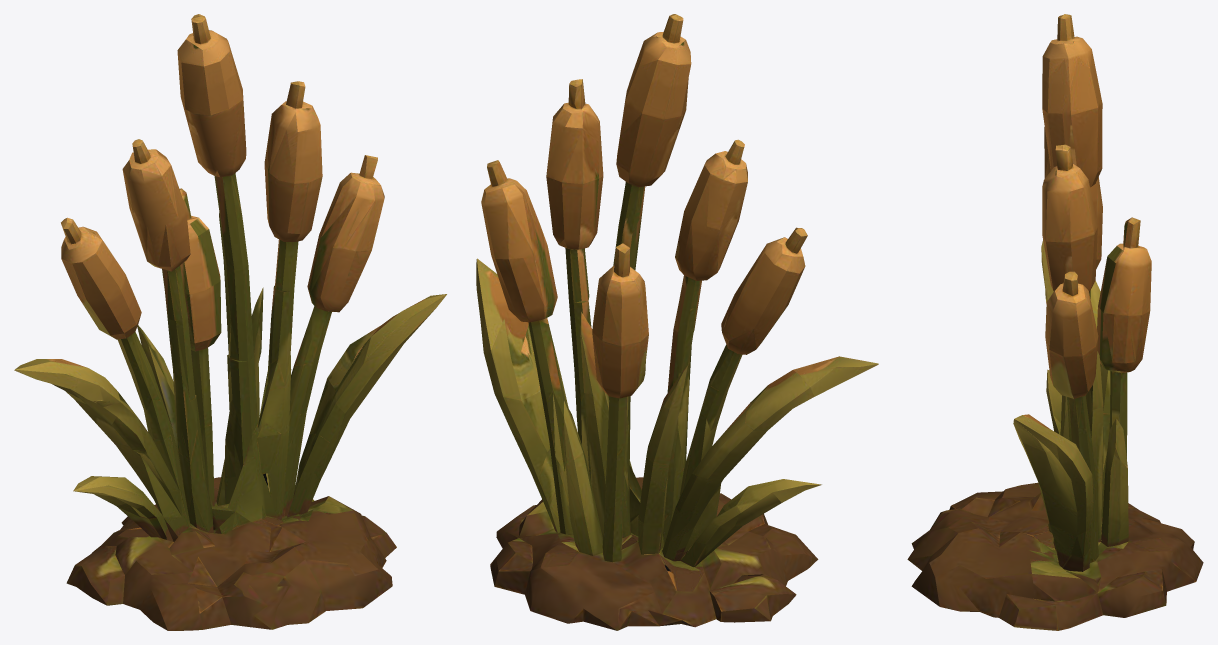
The model's file is reed-clump.glb.
The picture shows the model from 3 angles, left to right: view 1: azimuth 30°, elevation 25°; view 2: azimuth 150°, elevation 25°; view 3: azimuth 270°, elevation 25°; orthographic projection. The views are drawn at different scales.
Visible parts, largest first — view 1: output_unwrapped; view 2: output_unwrapped; view 3: output_unwrapped.
Part boxes in pixels (x1,y1,x2,y2): output_unwrapped: (14, 14, 446, 630); output_unwrapped: (476, 14, 878, 630); output_unwrapped: (907, 14, 1203, 630).
Bounding box in the file's own units: 1.49 × 1.9 × 0.9571.
Materials: 1 (1 with a texture image).
